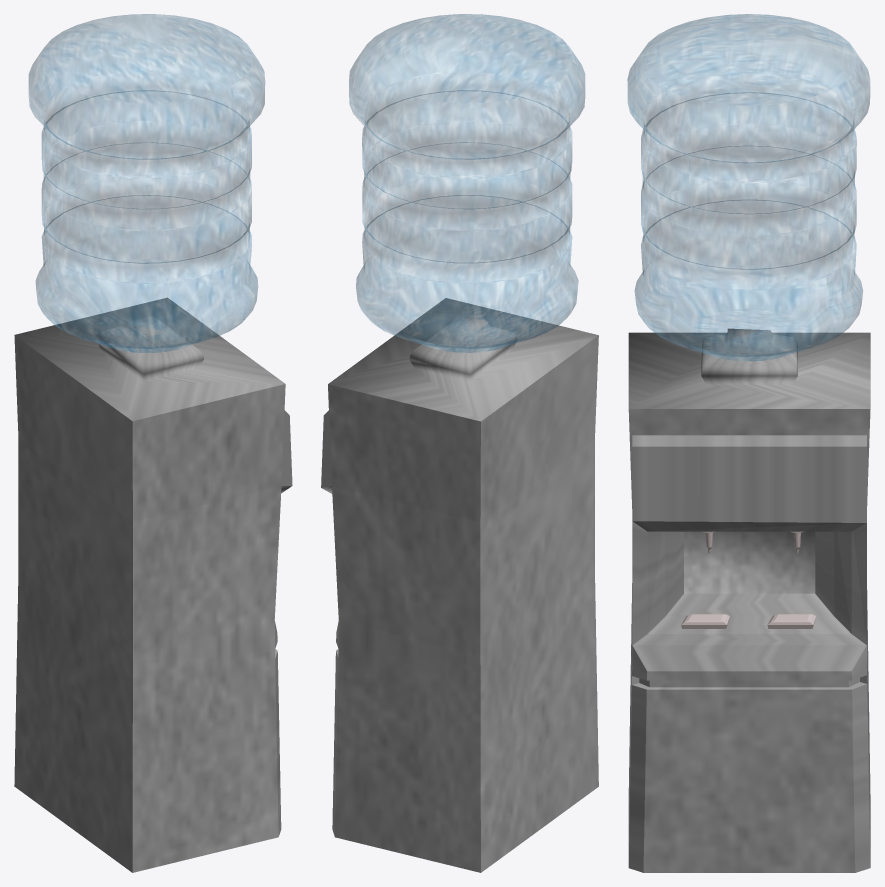
The model's file is water_dispenser_low_poly.glb.
3 views of the same model, side by side, from view 1: azimuth 30°, elevation 25°; view 2: azimuth 150°, elevation 25°; view 3: azimuth 270°, elevation 25° (orthographic). The views are drawn at different scales.
Parts seen in each view (by area): view 1: Material_001-material, damacana_001-material; view 2: Material_001-material, damacana_001-material; view 3: Material_001-material, damacana_001-material, Material_002-material.
Boxes of the visible parts, x1,y1,x2,y2 form: Material_001-material: (14,297,292,872); damacana_001-material: (28,14,265,352); Material_001-material: (321,298,598,872); damacana_001-material: (349,14,585,352); Material_001-material: (628,328,870,872); damacana_001-material: (627,14,870,361); Material_002-material: (681,531,816,628).
Bounding box in the file's own units: 2.15 × 7.69 × 2.15.
Materials: 3 (2 with a texture image).
